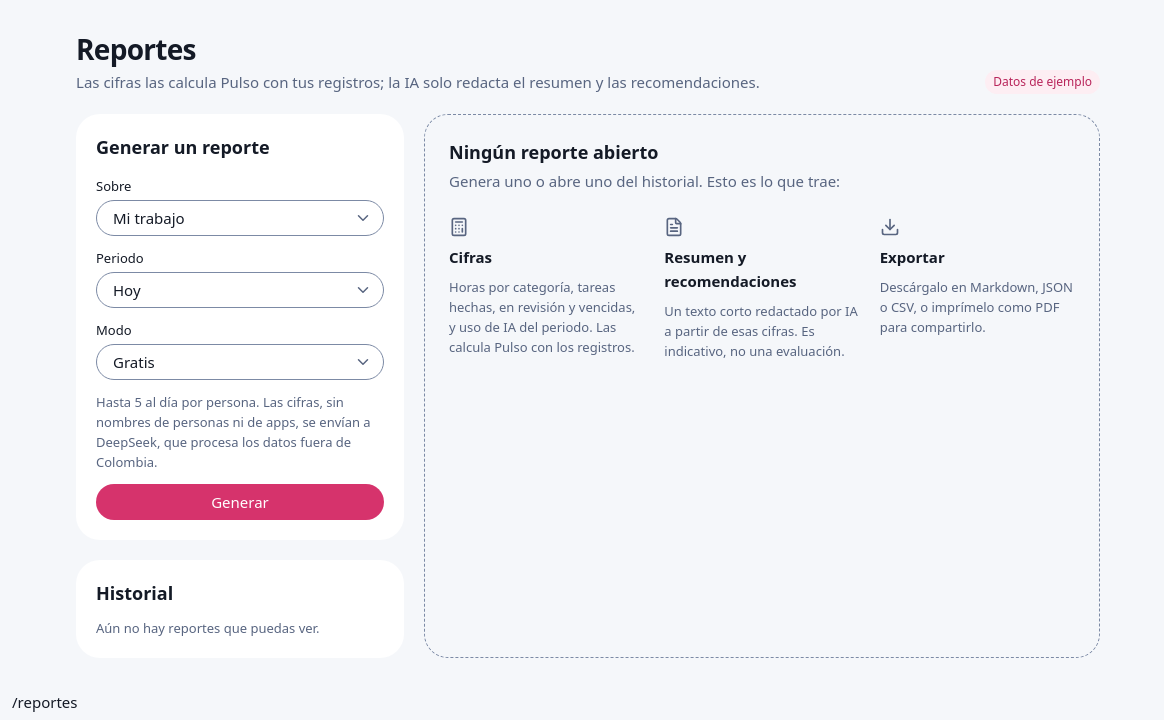
Test: Reportes · modo Manual (F6-6) › si los datos cambiaron al guardar (PT409), Manual lo explica en vez del error crudo
Select "Manual (copiar y pegar)" in the dropdown labelled "Modo": (240, 362) 96,344 -> 384,380
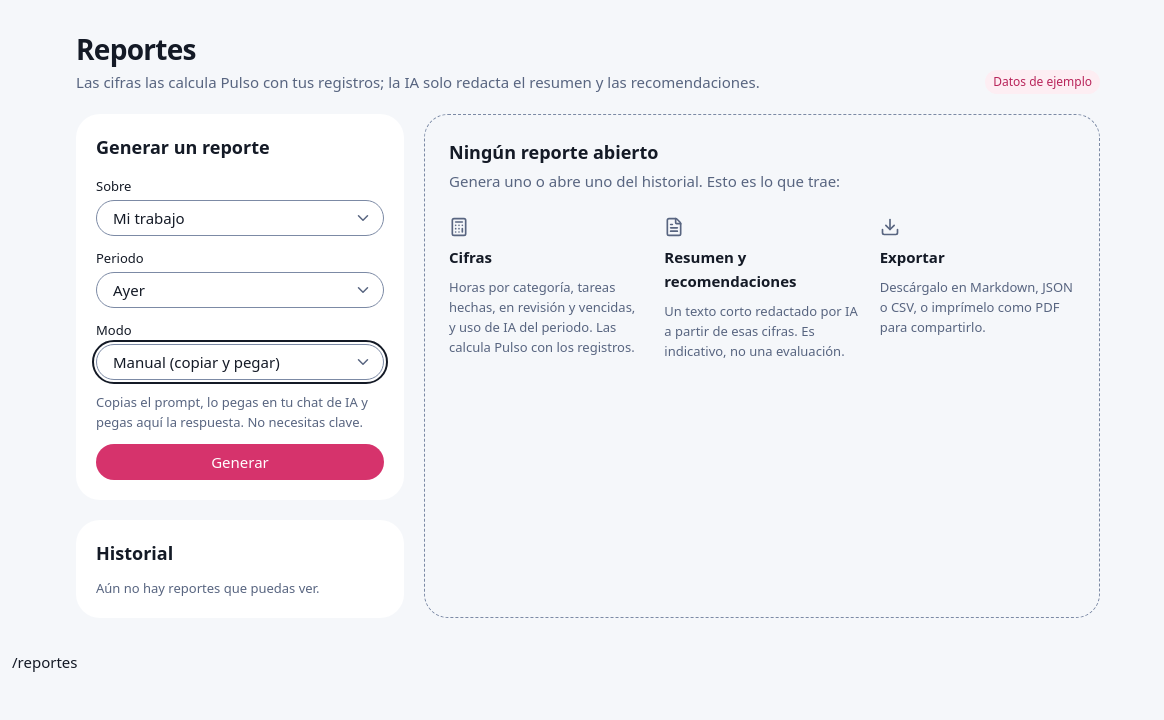
Click the button "Generar": (240, 462) 96,444 -> 384,480
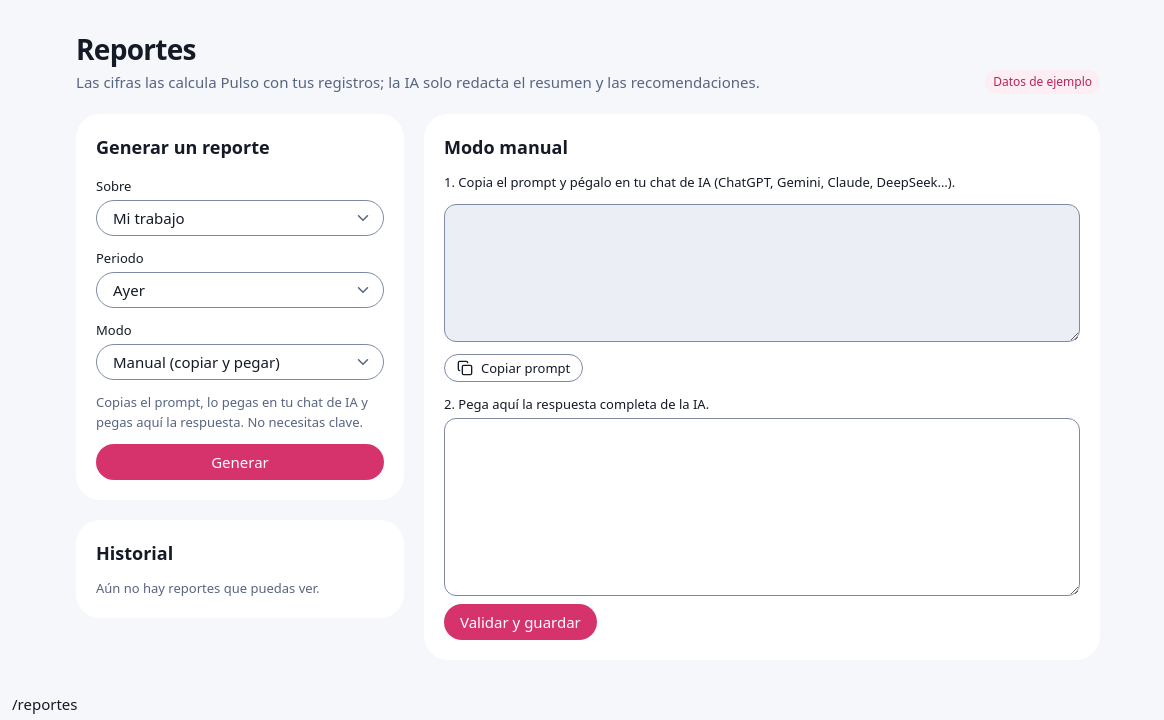
Click the text box named "Respuesta de la IA": (762, 507) 444,418 -> 1080,596
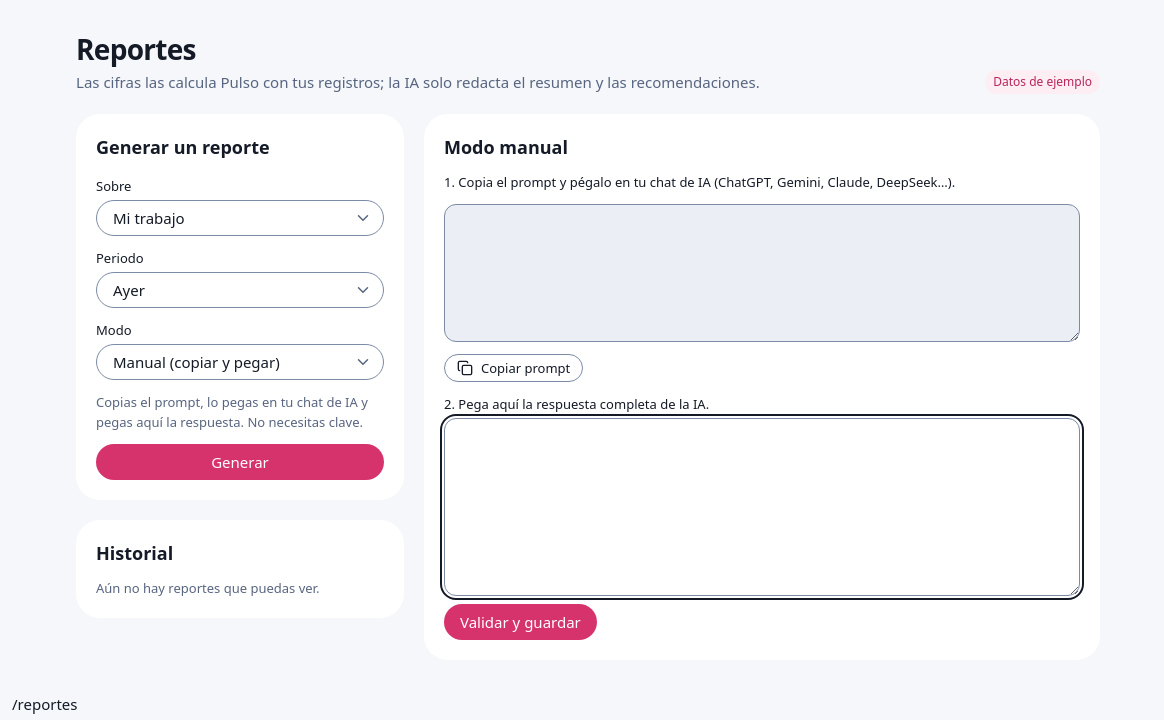
Type keys "{\"summary\":\"Día tranquilo.\",\"insights\":[],\"recommendations\":[],\"insufficient_data\":false}"
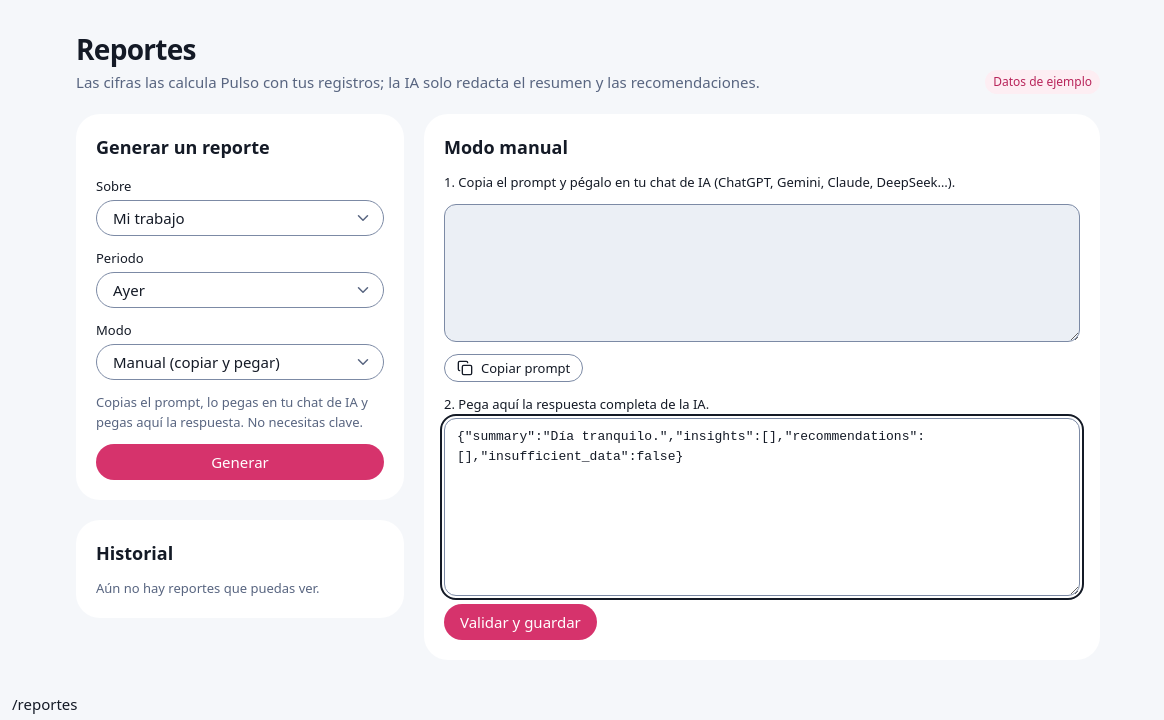
Click the button "Validar y guardar": (520, 622) 444,604 -> 597,640
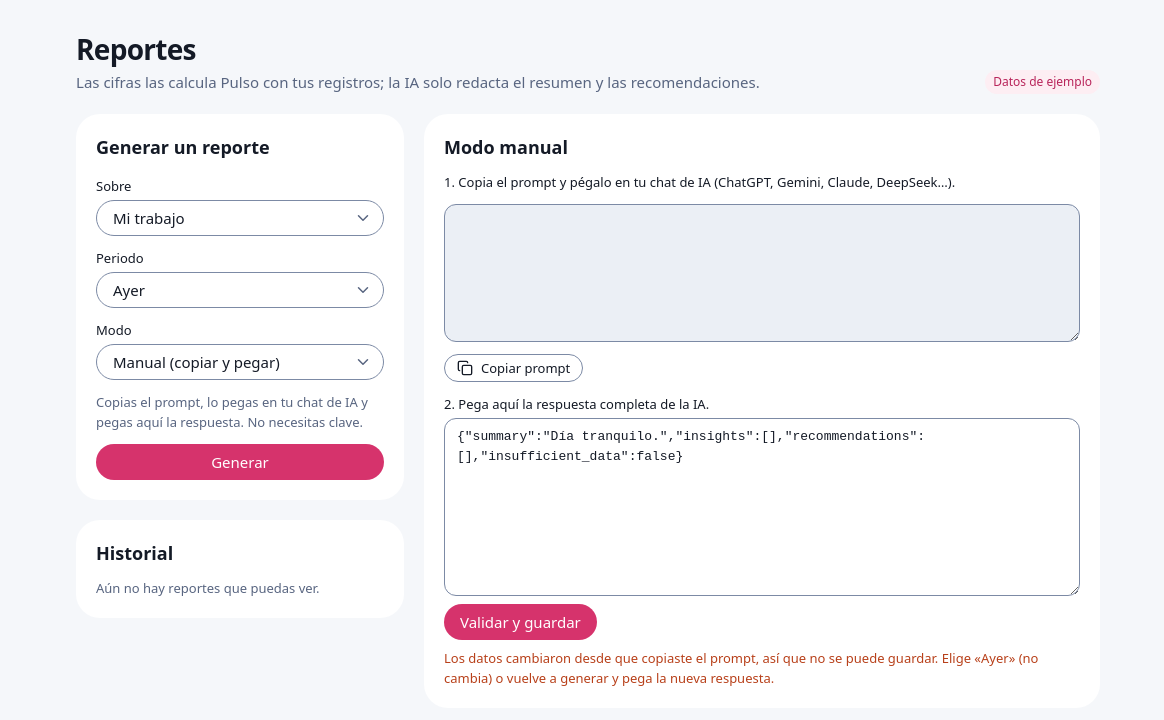
Expected: the message does not show "No se pudo", 444,648 -> 1080,688
Result: the message shows "Los datos cambiaron desde que copiaste el prompt" at 444,649 -> 1038,687
